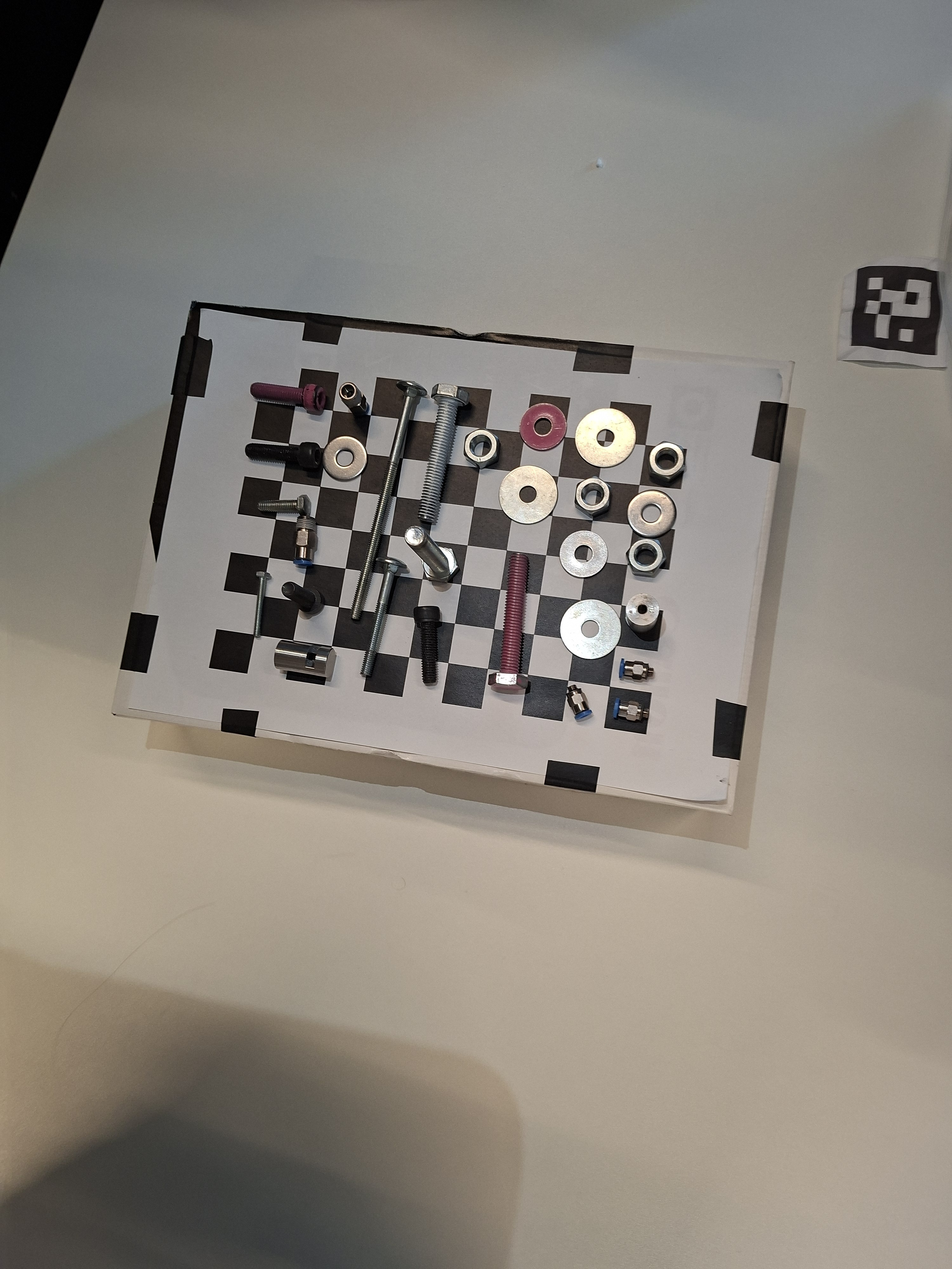allen_screw: (243, 370, 334, 419), (241, 432, 326, 477), (273, 570, 334, 621), (409, 602, 445, 688)
barrel_nut: (267, 634, 344, 686), (616, 587, 665, 637)
carriage_bolt: (337, 374, 431, 624), (343, 551, 416, 684)
hex_bolt: (402, 379, 479, 531), (484, 551, 539, 697), (389, 511, 475, 597), (245, 568, 277, 641), (257, 492, 312, 519)
hex_nut: (638, 433, 700, 489), (562, 466, 621, 524), (456, 421, 511, 477), (619, 535, 670, 581)
pneumatic_fitting: (330, 375, 375, 424), (559, 680, 601, 729), (605, 692, 656, 731), (289, 512, 322, 568), (613, 657, 659, 687)
washer: (563, 396, 644, 478), (550, 591, 630, 667), (491, 459, 563, 530), (508, 395, 574, 459), (552, 527, 614, 583), (620, 484, 680, 541), (318, 428, 377, 485)
